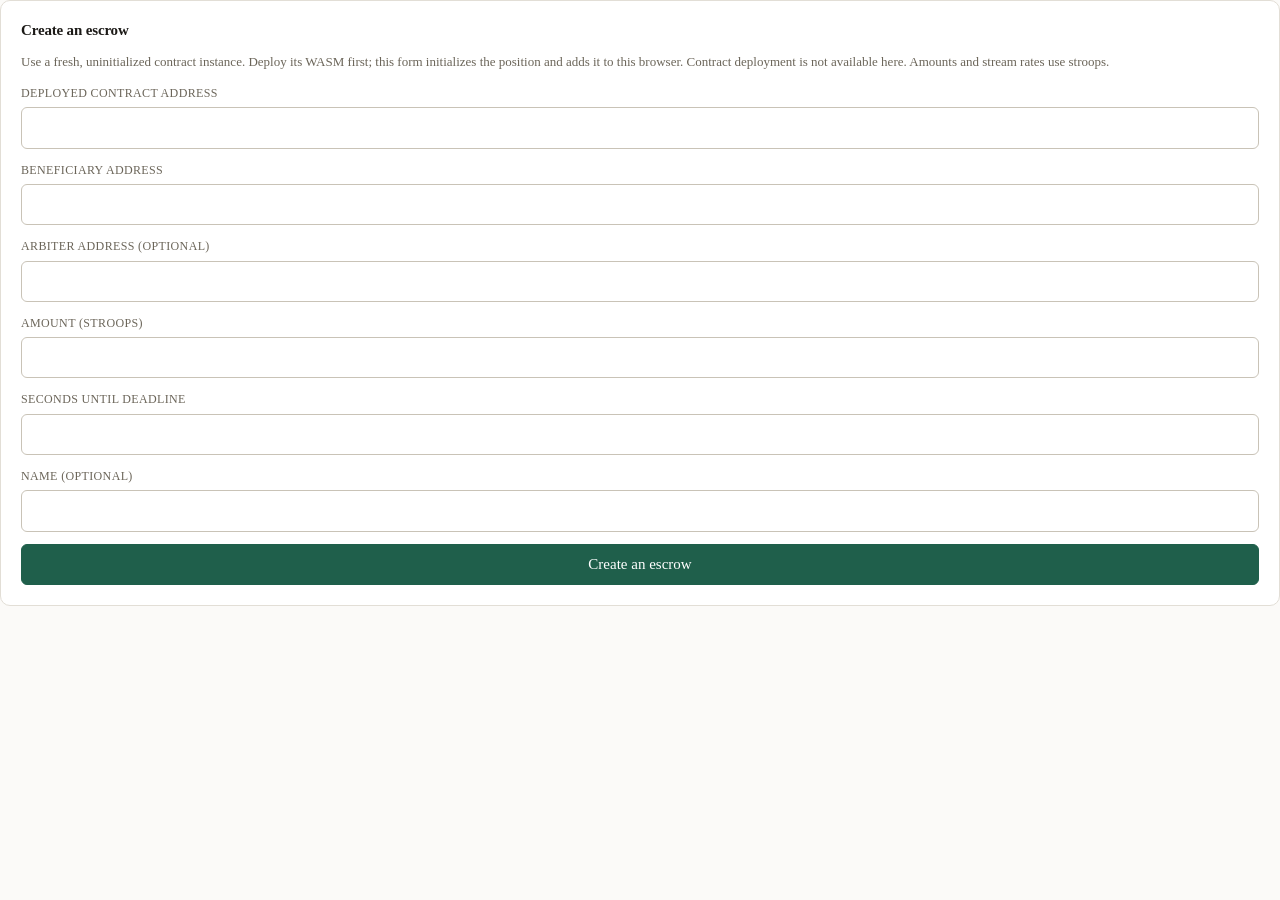
it: CreatePositionForm validation & inline errors (#293) › displays inline errors for empty required fields on submit (escrow)
What coordinates should you click on to do the following:
click the button "Create an escrow"
I would click on:
 (640, 564)
Its box is [21,544,1259,585].
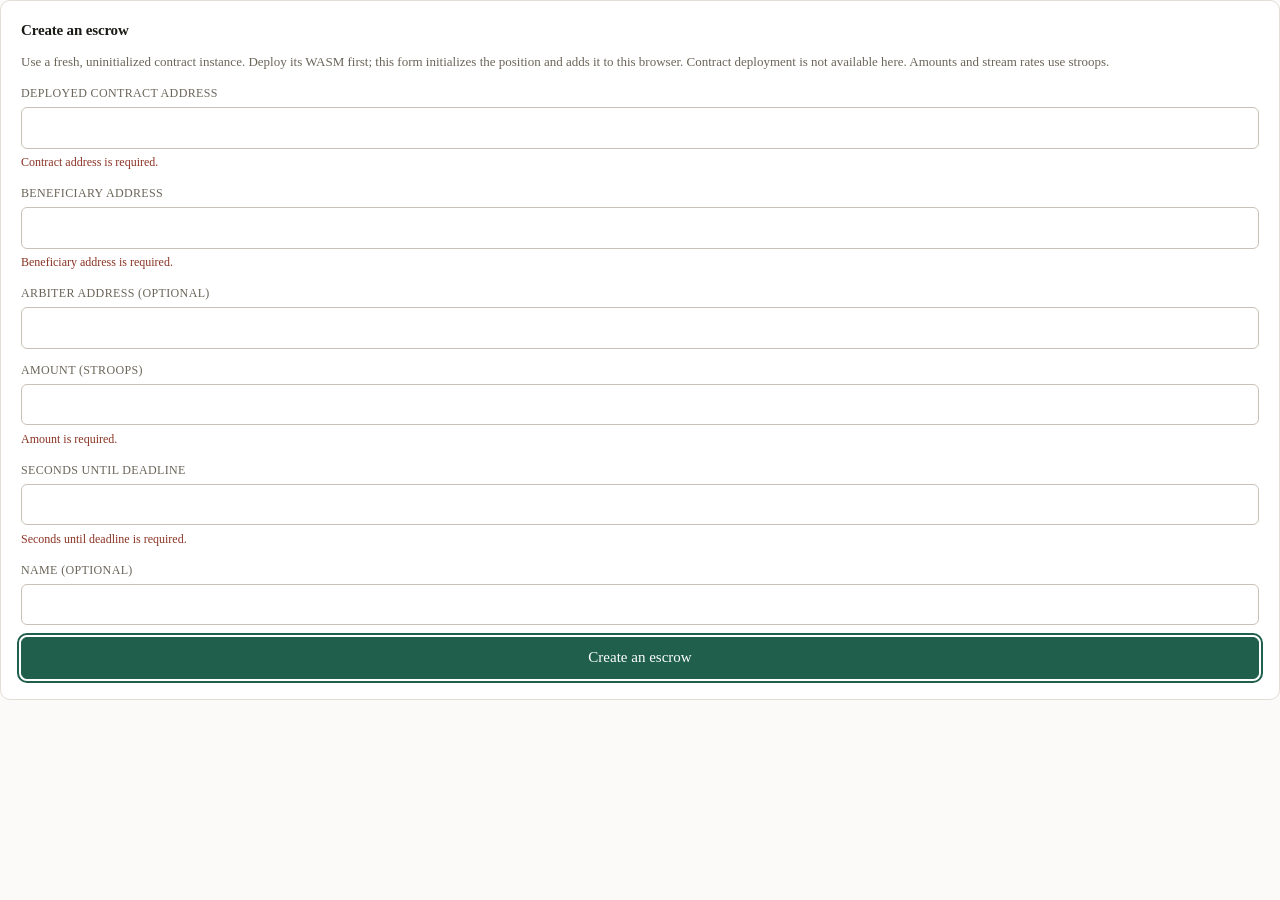
expect the text "Contract address is required." is shown: met, box [21,155,158,169]
expect the text "Beneficiary address is required." is shown: met, box [21,255,173,269]
expect the text "Amount is required." is shown: met, box [21,432,117,446]
